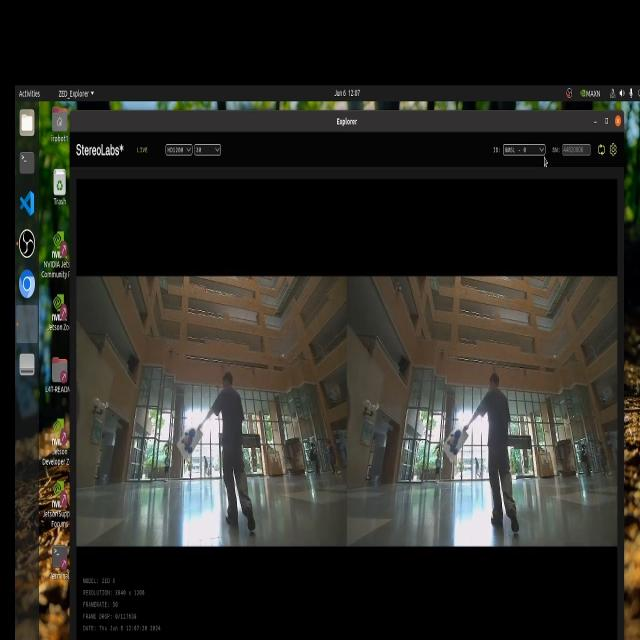blue: (176, 426, 202, 454), (448, 420, 461, 456)
